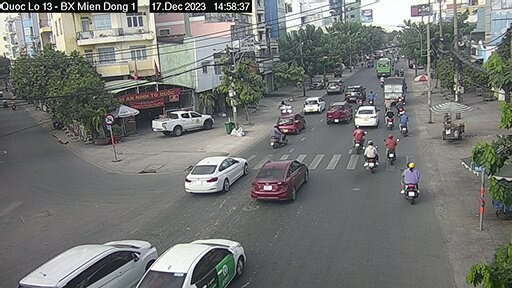bus: (369, 54, 395, 80)
car: (17, 224, 140, 288), (146, 228, 254, 288), (173, 145, 253, 200), (248, 153, 317, 207), (136, 110, 215, 140), (323, 99, 347, 129), (301, 92, 328, 118), (273, 112, 302, 136), (355, 101, 378, 125), (346, 85, 367, 108)
motorbike: (398, 152, 422, 198), (361, 138, 381, 170), (382, 132, 400, 164), (349, 126, 367, 155)
truck: (383, 78, 410, 103)
